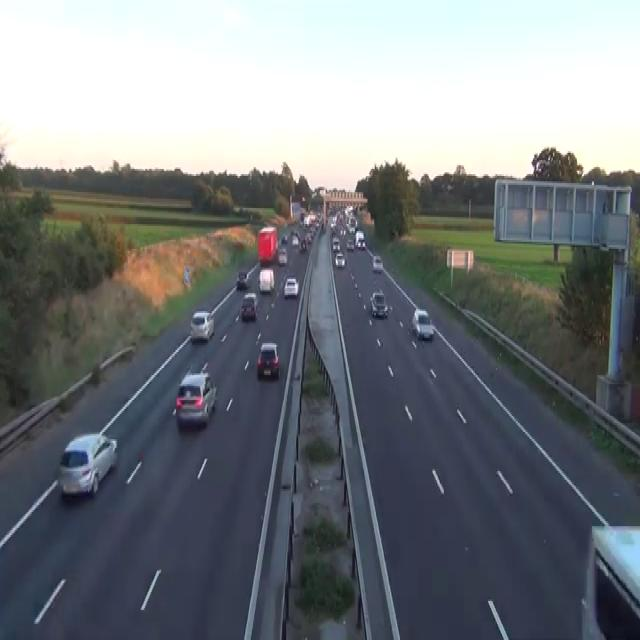Car: (580, 524, 639, 638), (58, 432, 117, 498), (175, 369, 217, 426), (330, 202, 366, 268), (256, 341, 279, 379), (190, 309, 214, 342), (411, 308, 434, 340), (369, 288, 388, 318), (240, 292, 258, 320), (258, 268, 274, 294), (283, 275, 299, 297), (236, 270, 248, 288), (355, 229, 365, 249), (372, 254, 383, 272), (277, 247, 287, 265), (335, 250, 345, 266), (332, 237, 340, 250), (346, 238, 354, 251), (299, 238, 306, 252), (291, 235, 299, 245), (330, 217, 336, 229), (281, 233, 288, 243), (358, 240, 365, 249)
Truck: (257, 226, 277, 265)
